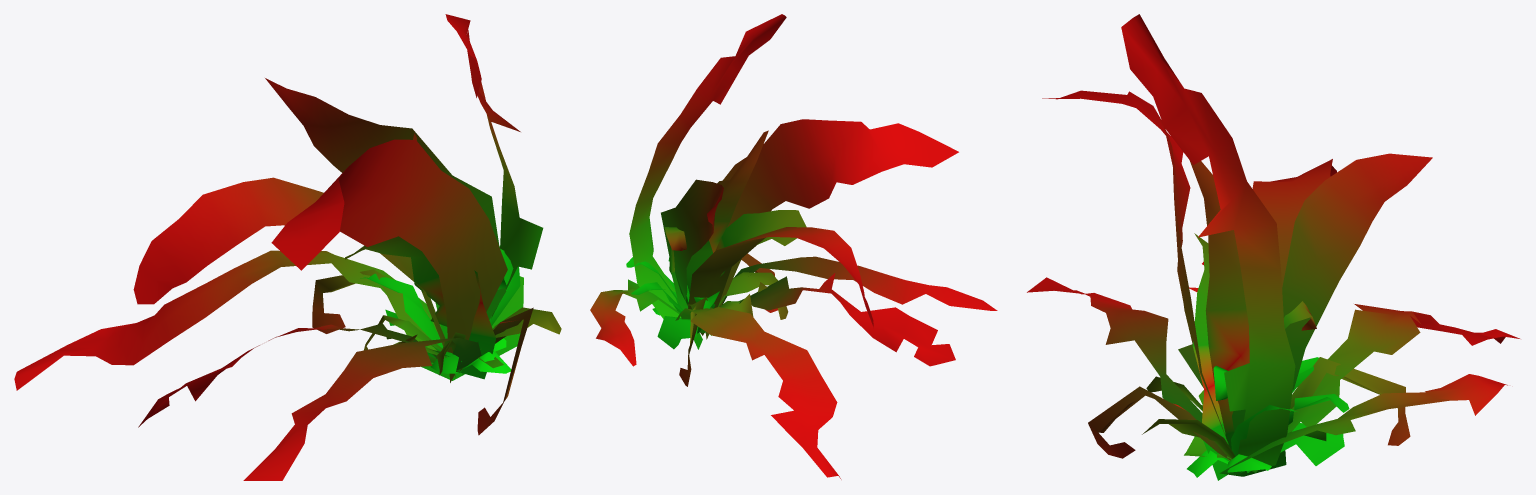
Rendered from Fern_LOD1_Var9_sbslY.fbx.
3 views of the same model, side by side, from view 1: azimuth 30°, elevation 25°; view 2: azimuth 150°, elevation 25°; view 3: azimuth 270°, elevation 25° (orthographic). The views are drawn at different scales.
Parts seen in each view (by area): view 1: _4dde_Var9_LOD1; view 2: _4dde_Var9_LOD1; view 3: _4dde_Var9_LOD1.
Part boxes in pixels (x1,y1,x2,y2): _4dde_Var9_LOD1: (14, 14, 561, 480); _4dde_Var9_LOD1: (590, 14, 997, 479); _4dde_Var9_LOD1: (1027, 14, 1519, 480).
Bounding box in the file's own units: 107 × 109 × 106.
